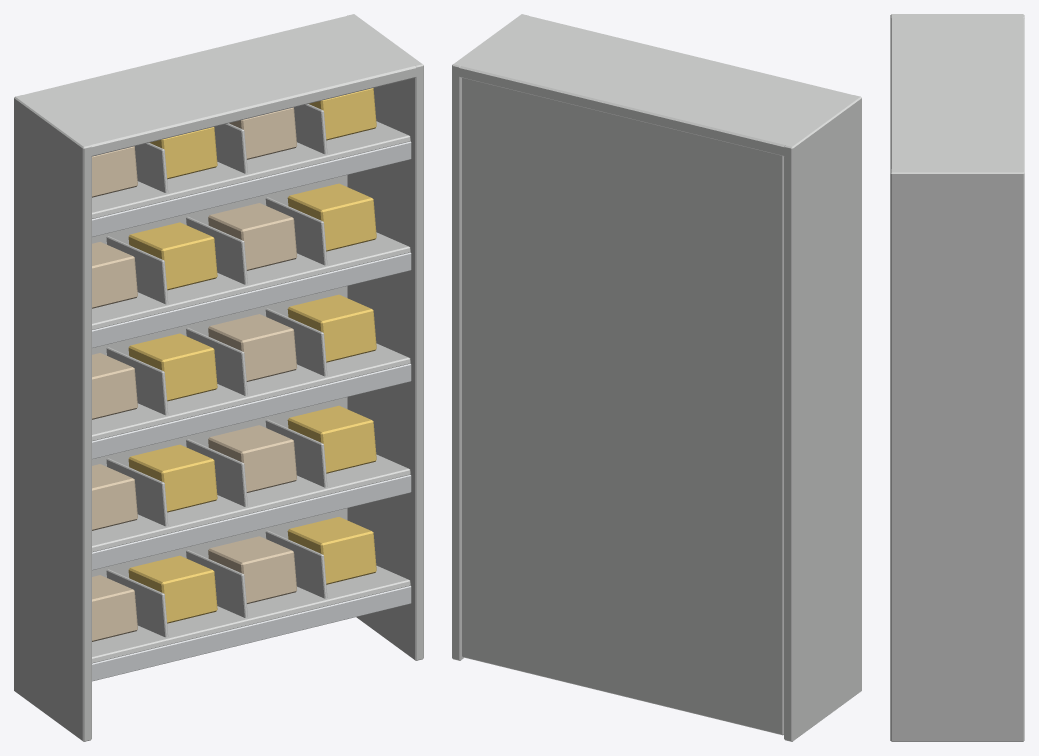
Rendered from clinic-and-veterinary-practice-dispensing-shelving-f439340f__16778.glb.
3 views of the same model, side by side, from view 1: azimuth 30°, elevation 25°; view 2: azimuth 150°, elevation 25°; view 3: azimuth 270°, elevation 25° (orthographic). The views are drawn at different scales.
Visible parts, largest first — view 1: dispensing-shelving; view 2: dispensing-shelving; view 3: dispensing-shelving.
Boxes of the visible parts, <box> form: dispensing-shelving: <box>14,14,423,741</box>; dispensing-shelving: <box>452,14,861,741</box>; dispensing-shelving: <box>890,14,1024,741</box>.
Bounding box in the file's own units: 0.9001 × 1.5 × 0.3199.
